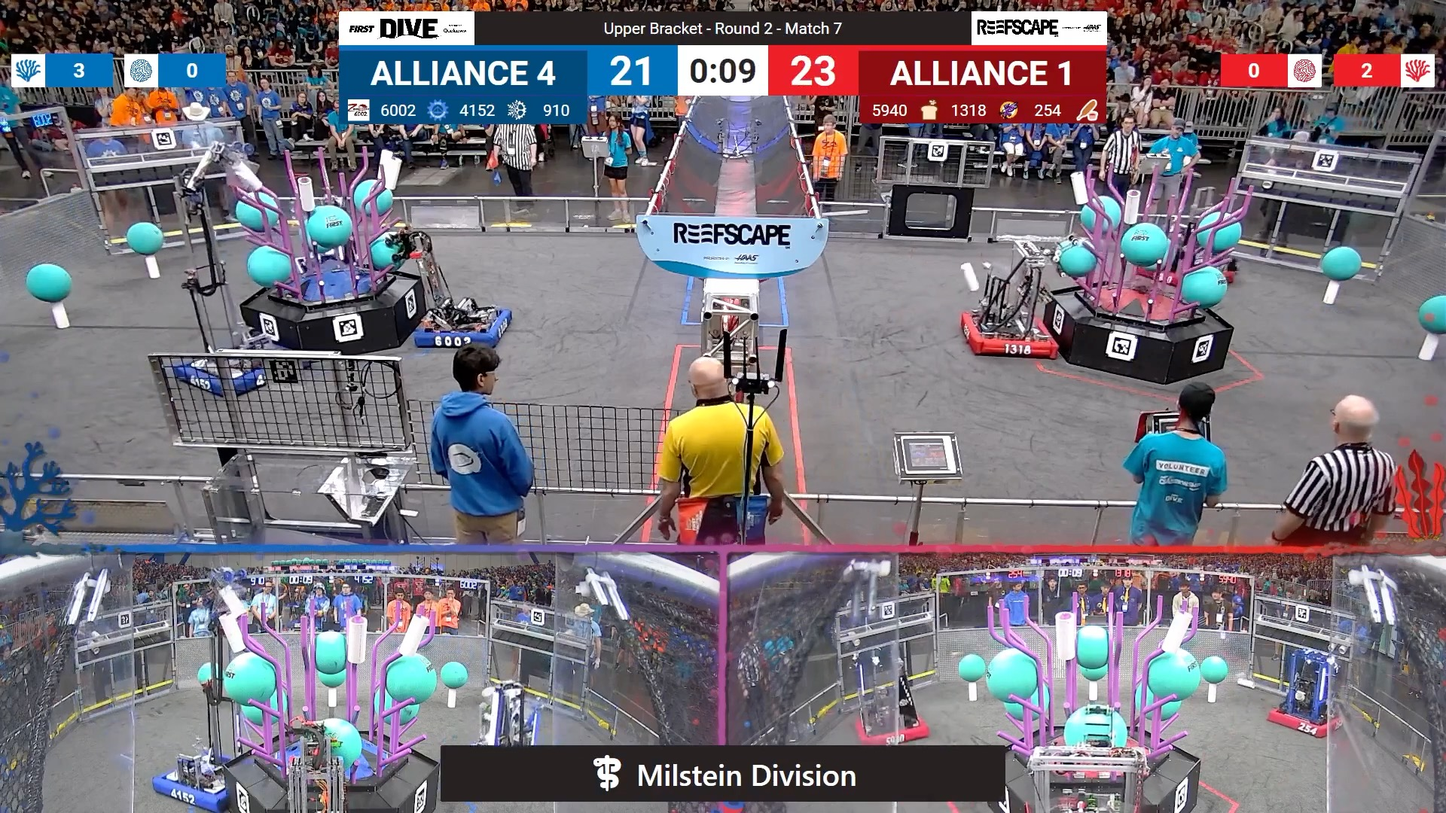bumpers: (959, 306, 1071, 365), (403, 293, 513, 351), (169, 349, 282, 399), (150, 752, 240, 813), (1131, 248, 1243, 294), (849, 706, 933, 748), (1260, 703, 1346, 740)
